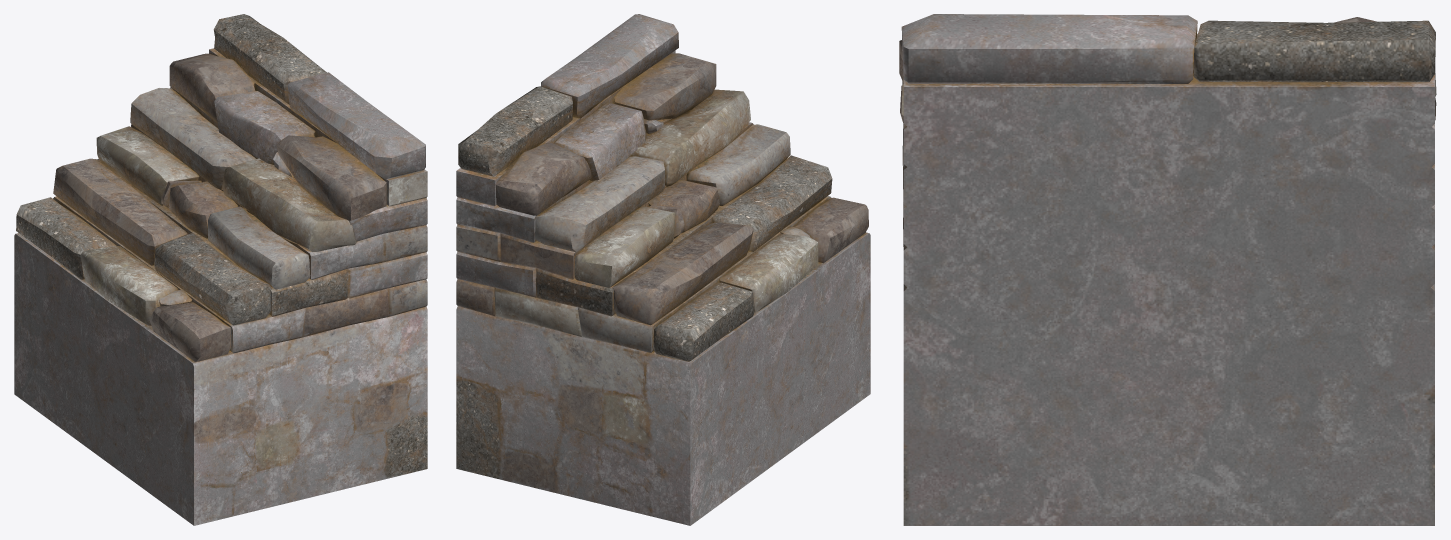
Rendered from SM_Stair01b.fbx.
The picture shows the model from 3 angles, left to right: view 1: azimuth 30°, elevation 25°; view 2: azimuth 150°, elevation 25°; view 3: azimuth 270°, elevation 25°; orthographic projection. The views are drawn at different scales.
Parts seen in each view (by area): view 1: SM_Stair01b; view 2: SM_Stair01b; view 3: SM_Stair01b.
Boxes of the visible parts, box(x1,y1,x2,y2) form: SM_Stair01b: box(14, 14, 427, 525); SM_Stair01b: box(456, 14, 870, 525); SM_Stair01b: box(899, 14, 1436, 525).
Bounding box in the file's own units: 152 × 202 × 202.
Materials: 1 (1 with a texture image).
